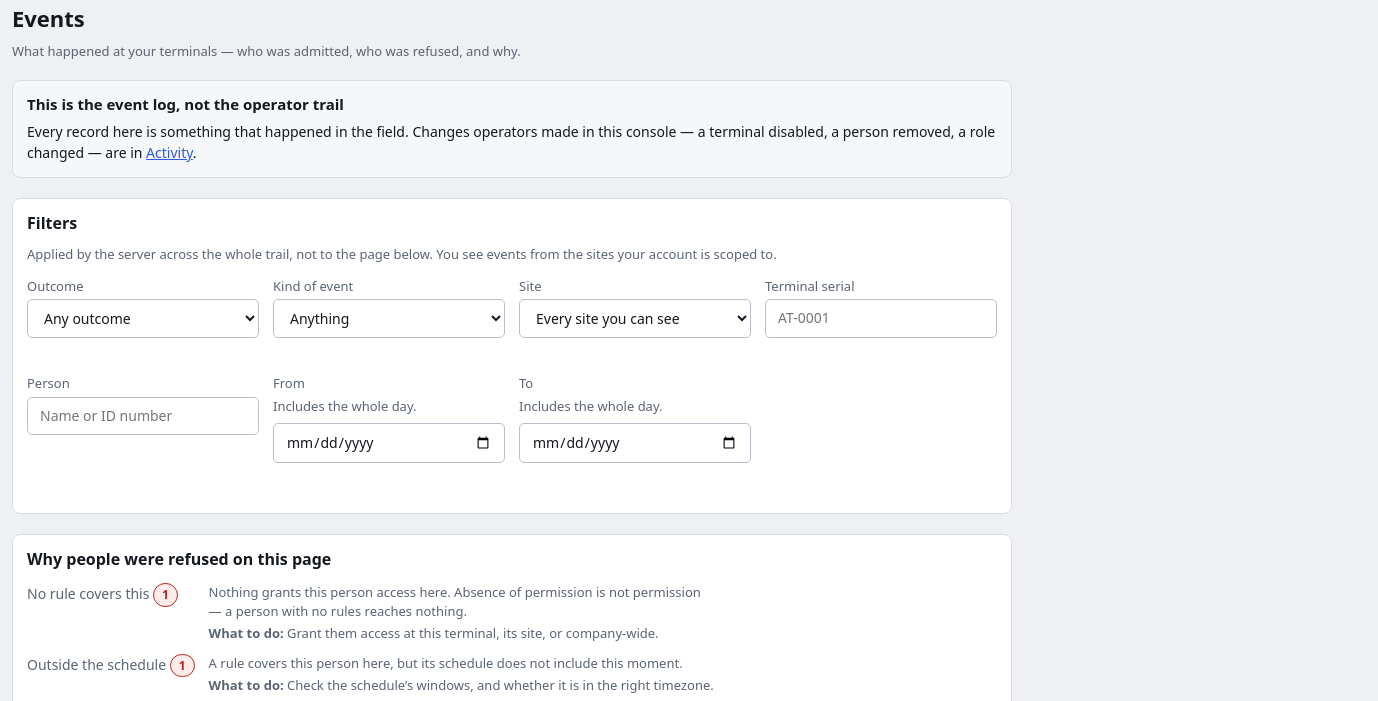
Scenario: filtering › distinguishes "nothing matched" from "nothing recorded"
Select "Tamper" in the dropdown labelled "Kind of event" at (389, 319), box x1=273 y1=299 x2=505 y2=338
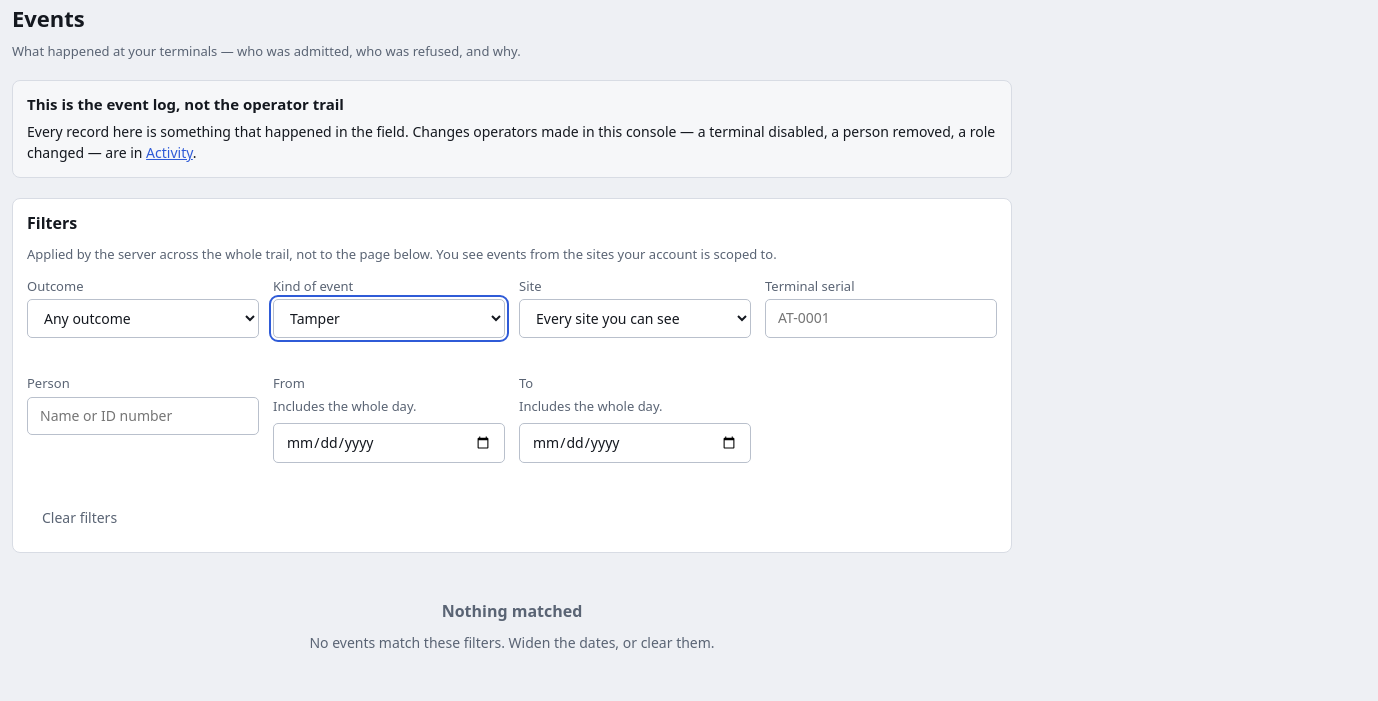
Now the heading "Nothing matched" is shown, box x1=442 y1=601 x2=582 y2=621
Click the button "Clear filters" at (80, 519), box x1=27 y1=499 x2=132 y2=538
(page scrolled)
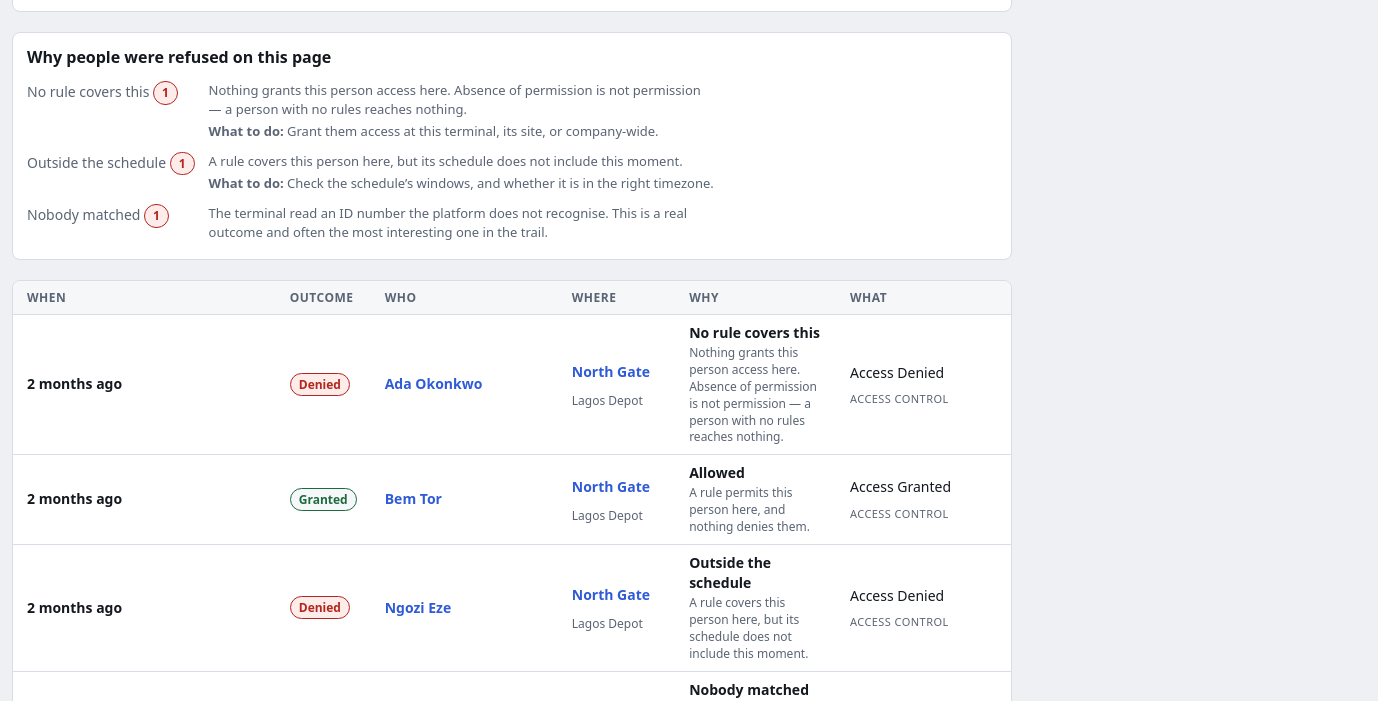
Now the link "Ada Okonkwo" is shown, box x1=385 y1=373 x2=482 y2=397
